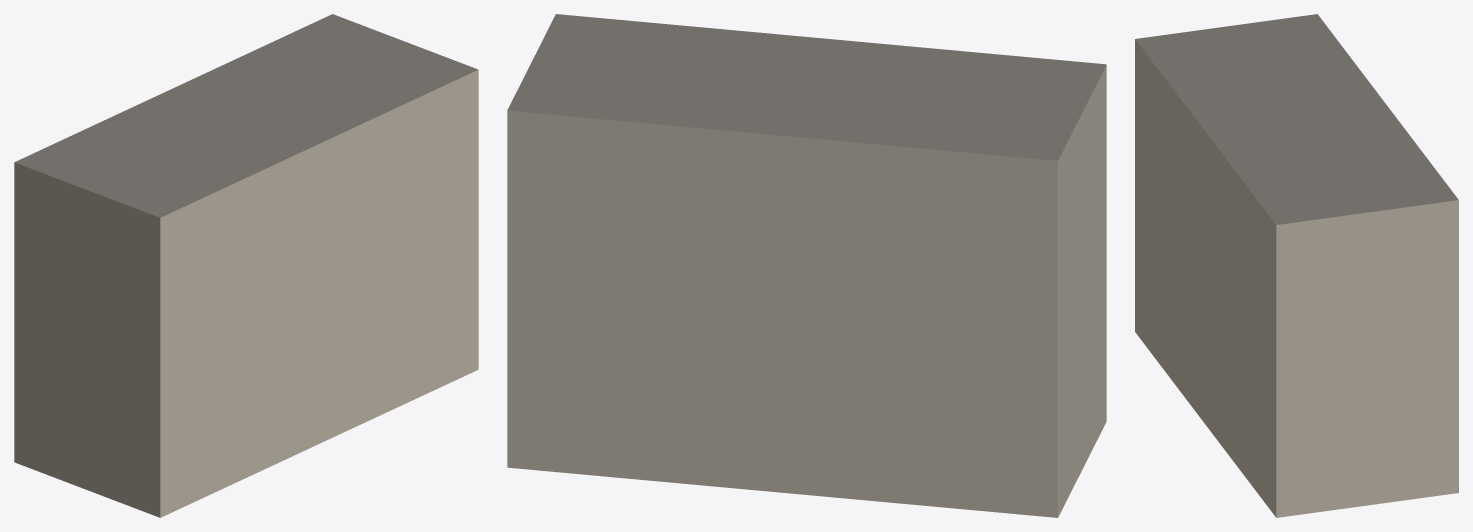
3 views of the same model, side by side, from view 1: azimuth 30°, elevation 25°; view 2: azimuth 150°, elevation 25°; view 3: azimuth 270°, elevation 25° (orthographic). The views are drawn at different scales.
Visible parts, largest first — view 1: HP-w1211966688; view 2: HP-w1211966688; view 3: HP-w1211966688.
Part boxes in pixels (x1=…): HP-w1211966688: x1=14, y1=14, x2=478, y2=517; HP-w1211966688: x1=507, y1=14, x2=1106, y2=517; HP-w1211966688: x1=1135, y1=14, x2=1458, y2=517.
Size of the model in its own units: 27.82 by 18 by 18.04.
